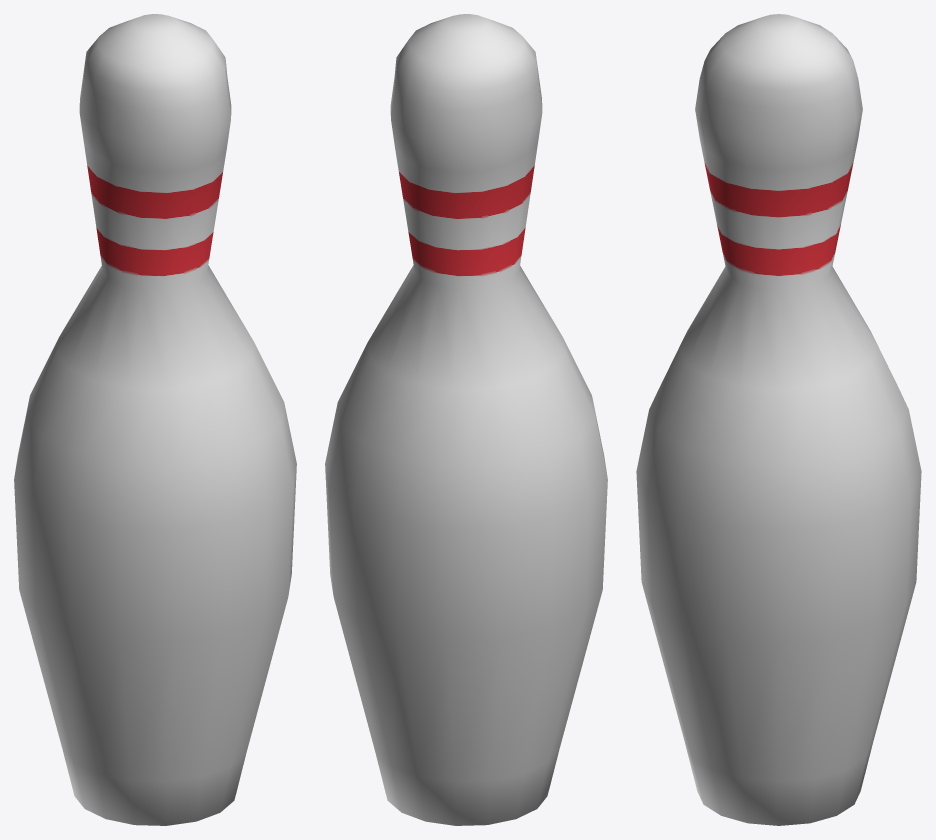
Rendered from PinV2.fbx.
The picture shows the model from 3 angles, left to right: view 1: azimuth 30°, elevation 25°; view 2: azimuth 150°, elevation 25°; view 3: azimuth 270°, elevation 25°; orthographic projection.
Visible parts, largest first — view 1: Cylinder; view 2: Cylinder; view 3: Cylinder.
Boxes of the visible parts, x1,y1,x2,y2 form: Cylinder: [14, 14, 296, 825]; Cylinder: [325, 14, 607, 825]; Cylinder: [636, 14, 921, 825].
Size of the model in its own units: 116 by 345 by 116.
Materials: 1 (1 with a texture image).
